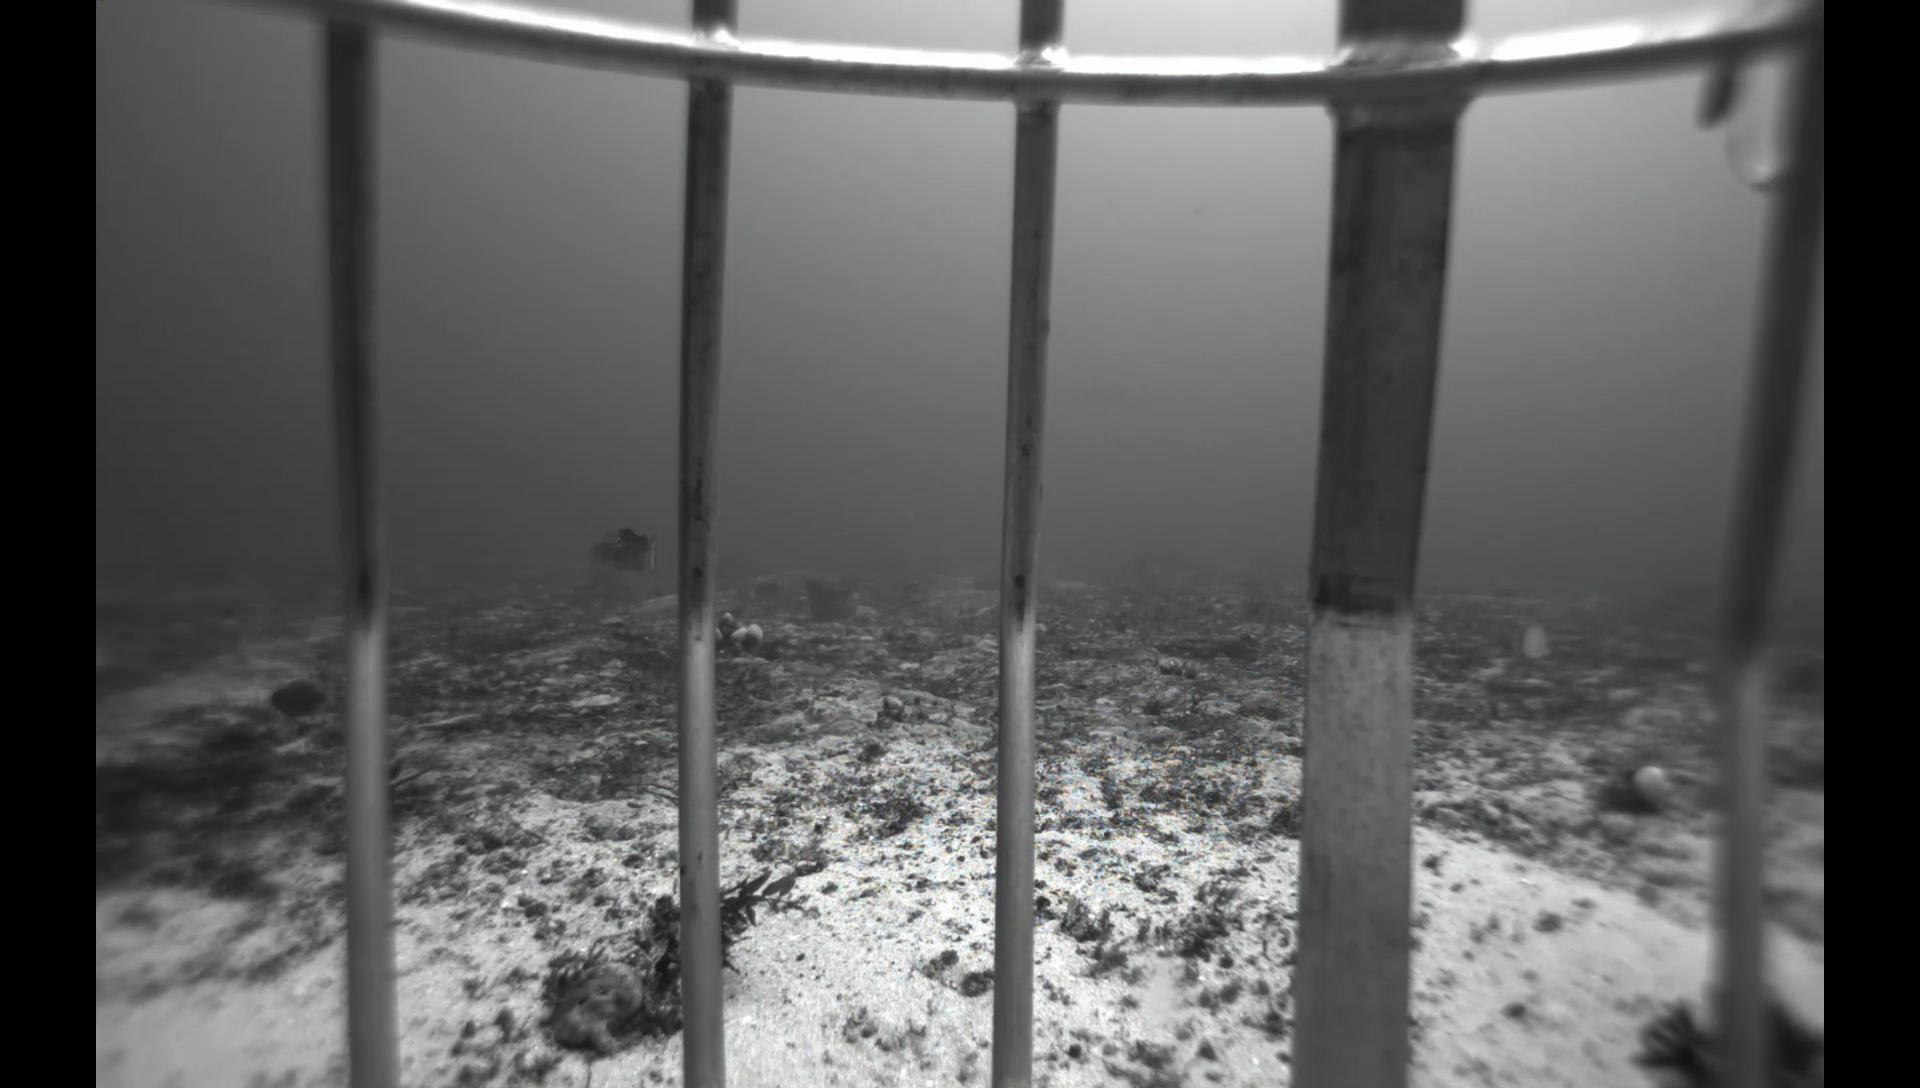CHAETODONOCELLATUS-170260307: (1507, 617, 1560, 666)
EPINEPHELUSMORIO-170021211: (583, 520, 667, 580)
PRISTIGENYSALTA-170050401: (265, 673, 339, 727)
